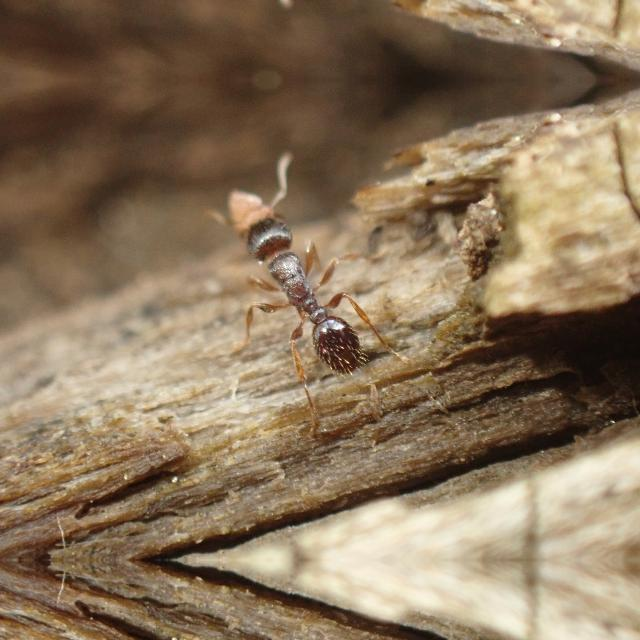Tetramorium: (216, 170, 392, 406)
